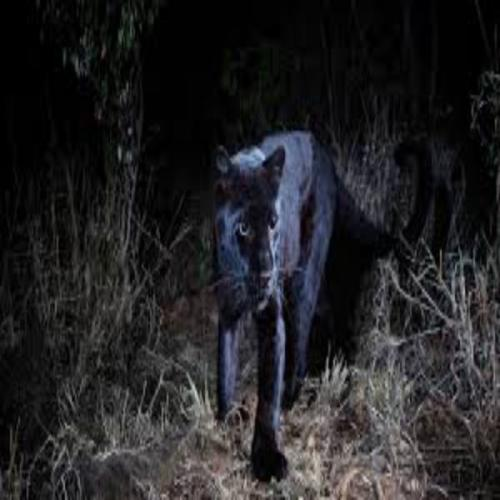panther-endangered: (212, 129, 337, 486)
